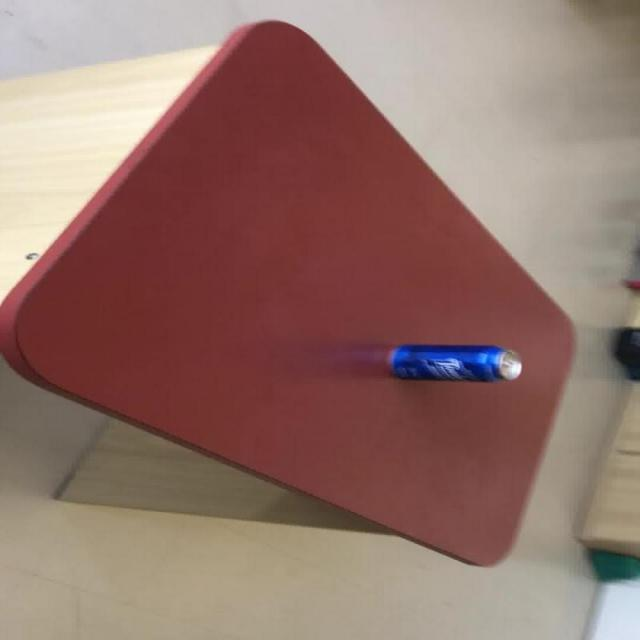Tonic: (386, 343, 522, 382)
